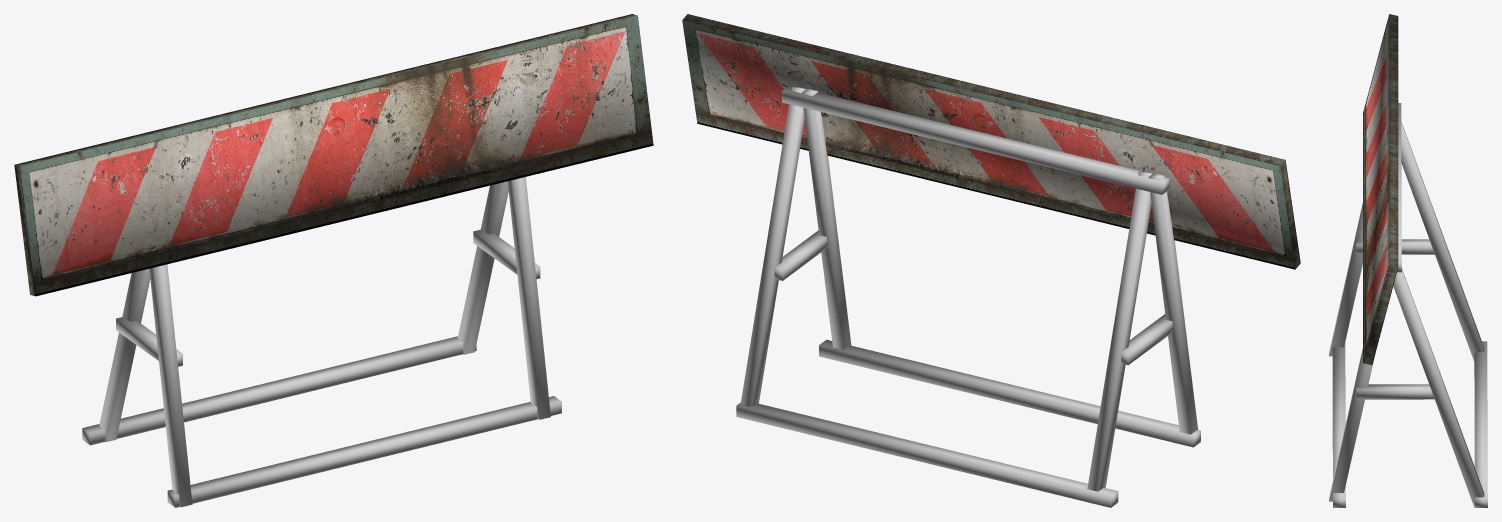
The model's file is Board.fbx.
3 views of the same model, side by side, from view 1: azimuth 30°, elevation 25°; view 2: azimuth 150°, elevation 25°; view 3: azimuth 270°, elevation 25° (orthographic). The views are drawn at different scales.
Visible parts, largest first — view 1: Mesh; view 2: Mesh; view 3: Mesh.
Boxes of the visible parts, x1,y1,x2,y2 form: Mesh: (14, 14, 653, 507); Mesh: (682, 14, 1300, 507); Mesh: (1329, 14, 1487, 507).
Bounding box in the file's own units: 138 × 73.99 × 36.9.
